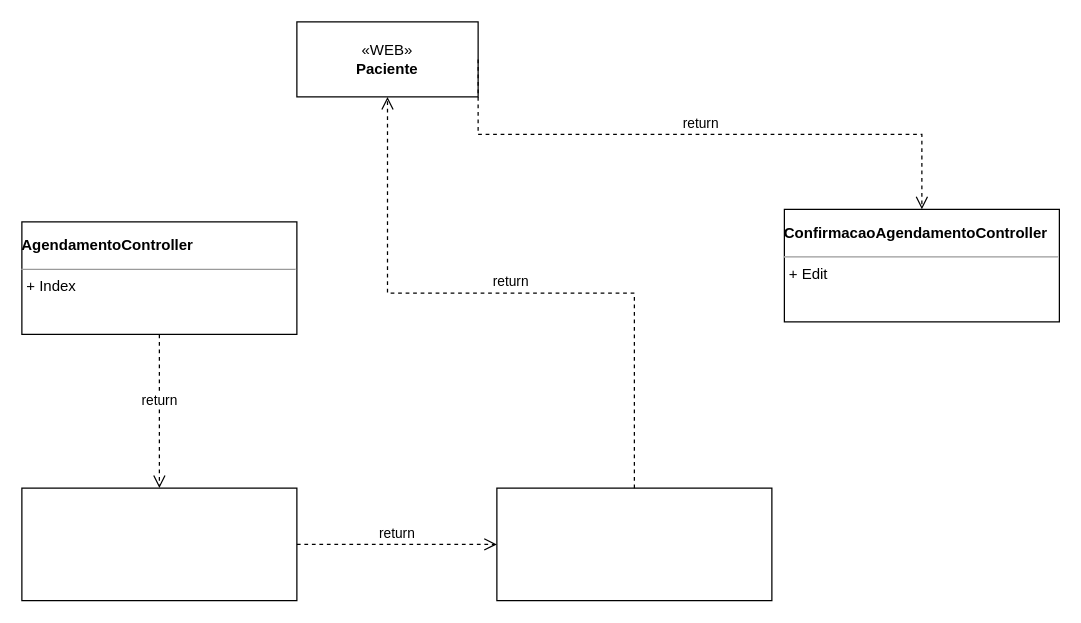
Image size: 1081x623. Some labels were removed from this diagram. The centre of each missing label's shape, as x and y in pixels:
"AgendamentoController + Edit" goes at (x=159, y=544).
"ConfirmacaoAgendamentoController + Index" goes at (x=634, y=544).
